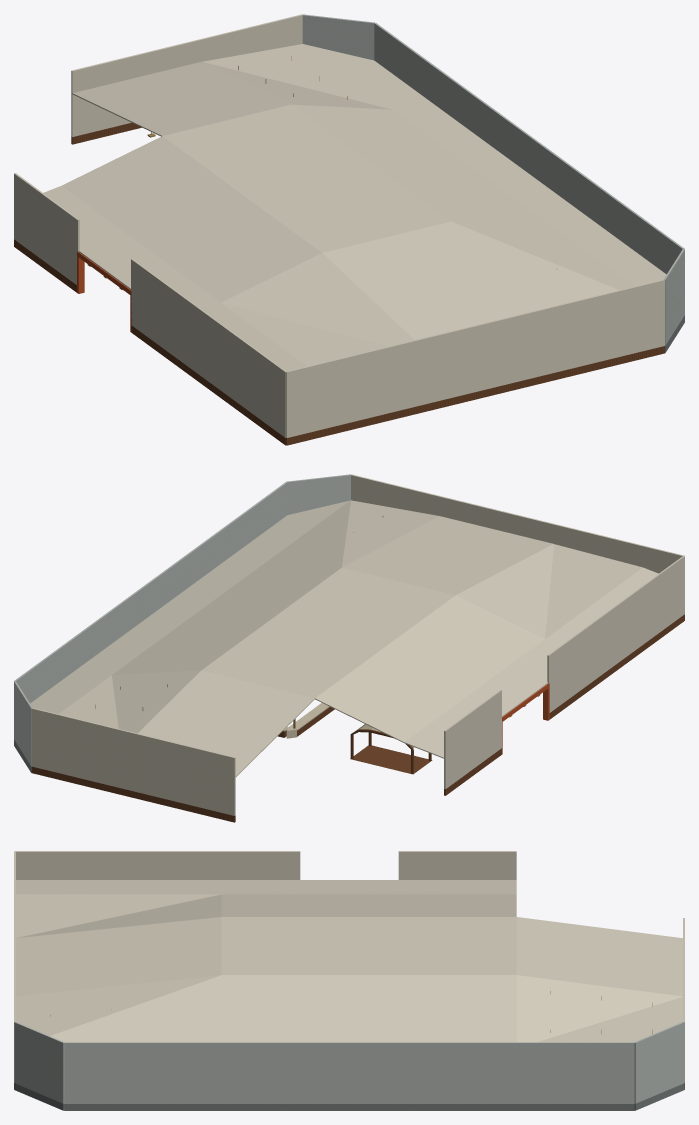
File: AST-DIN-008.glb
The picture shows the model from 3 angles, top to bottom: view 1: azimuth 30°, elevation 25°; view 2: azimuth 150°, elevation 25°; view 3: azimuth 270°, elevation 25°; orthographic projection. The views are drawn at different scales.
Parts seen in each view (by area): view 1: ORCH_PerimeterWall_11, ORCH_PerimeterWall_1, ORCH_PerimeterWall_10, ORCH_ShapedCeiling_24, ORCH_ShapedCeiling_14, ORCH_PerimeterWall_3, ORCH_ShapedCeiling_25, ORCH_ShapedCeiling_16, ORCH_PerimeterWall_6, ORCH_ShapedCeiling_17, ORCH_ShapedCeiling_35, ORCH_ShapedCeiling_27 (+41 smaller); view 2: ORCH_PerimeterWall_3, ORCH_PerimeterWall_1, ORCH_PerimeterWall_10, ORCH_PerimeterWall_11, ORCH_ShapedCeiling_16, ORCH_ShapedCeiling_14, ORCH_ShapedCeiling_15, ORCH_ShapedCeiling_24, ORCH_ShapedCeiling_25, ORCH_ShapedCeiling_17, ORCH_PerimeterWall_6, ORCH_ShapedCeiling_9 (+41 smaller); view 3: ORCH_PerimeterWall_1, ORCH_PerimeterWall_10, ORCH_ShapedCeiling_34, ORCH_ShapedCeiling_26, ORCH_ShapedCeiling_24, ORCH_ShapedCeiling_25, ORCH_ShapedCeiling_16, ORCH_ShapedCeiling_35, ORCH_ShapedCeiling_17, ORCH_ShapedCeiling_15, ORCH_ShapedCeiling_28, ORCH_PerimeterDado_1 (+30 smaller).
Boxes of the visible parts, x1=… form: ORCH_PerimeterWall_11: x1=286, y1=279, x2=664, y2=437; ORCH_PerimeterWall_1: x1=374, y1=23, x2=684, y2=274; ORCH_PerimeterWall_10: x1=131, y1=259, x2=286, y2=437; ORCH_ShapedCeiling_24: x1=323, y1=221, x2=543, y2=313; ORCH_ShapedCeiling_14: x1=221, y1=253, x2=414, y2=346; ORCH_PerimeterWall_3: x1=71, y1=14, x2=302, y2=136; ORCH_ShapedCeiling_25: x1=322, y1=253, x2=521, y2=339; ORCH_ShapedCeiling_16: x1=72, y1=93, x2=289, y2=136; ORCH_PerimeterWall_6: x1=14, y1=173, x2=79, y2=284; ORCH_ShapedCeiling_17: x1=74, y1=62, x2=290, y2=104; ORCH_ShapedCeiling_35: x1=452, y1=222, x2=619, y2=308; ORCH_ShapedCeiling_27: x1=202, y1=44, x2=392, y2=109; ORCH_PerimeterWall_3: x1=31, y1=708, x2=235, y2=815; ORCH_PerimeterWall_1: x1=14, y1=481, x2=287, y2=703; ORCH_PerimeterWall_10: x1=547, y1=556, x2=684, y2=712; ORCH_PerimeterWall_11: x1=351, y1=474, x2=684, y2=573; ORCH_ShapedCeiling_16: x1=201, y1=670, x2=314, y2=777; ORCH_ShapedCeiling_14: x1=456, y1=544, x2=553, y2=638; ORCH_ShapedCeiling_15: x1=545, y1=544, x2=642, y2=638; ORCH_ShapedCeiling_24: x1=342, y1=516, x2=455, y2=595; ORCH_ShapedCeiling_25: x1=440, y1=516, x2=553, y2=594; ORCH_ShapedCeiling_17: x1=138, y1=671, x2=228, y2=755; ORCH_PerimeterWall_6: x1=444, y1=689, x2=501, y2=789; ORCH_ShapedCeiling_9: x1=315, y1=657, x2=404, y2=742; ORCH_PerimeterWall_1: x1=64, y1=1042, x2=634, y2=1103; ORCH_PerimeterWall_10: x1=15, y1=851, x2=300, y2=879; ORCH_ShapedCeiling_34: x1=50, y1=975, x2=221, y2=1042; ORCH_ShapedCeiling_26: x1=516, y1=975, x2=682, y2=1042; ORCH_ShapedCeiling_24: x1=16, y1=917, x2=221, y2=996; ORCH_ShapedCeiling_25: x1=16, y1=917, x2=220, y2=995; ORCH_ShapedCeiling_16: x1=516, y1=917, x2=682, y2=974; ORCH_ShapedCeiling_35: x1=16, y1=975, x2=220, y2=1035; ORCH_ShapedCeiling_17: x1=517, y1=938, x2=682, y2=996; ORCH_ShapedCeiling_15: x1=16, y1=894, x2=220, y2=937; ORCH_ShapedCeiling_28: x1=398, y1=975, x2=516, y2=1042; ORCH_PerimeterDado_1: x1=64, y1=1104, x2=634, y2=1110.
Size of the model in its own units: 46.2 by 7.72 by 68.2.
9 materials, 8 textured.
